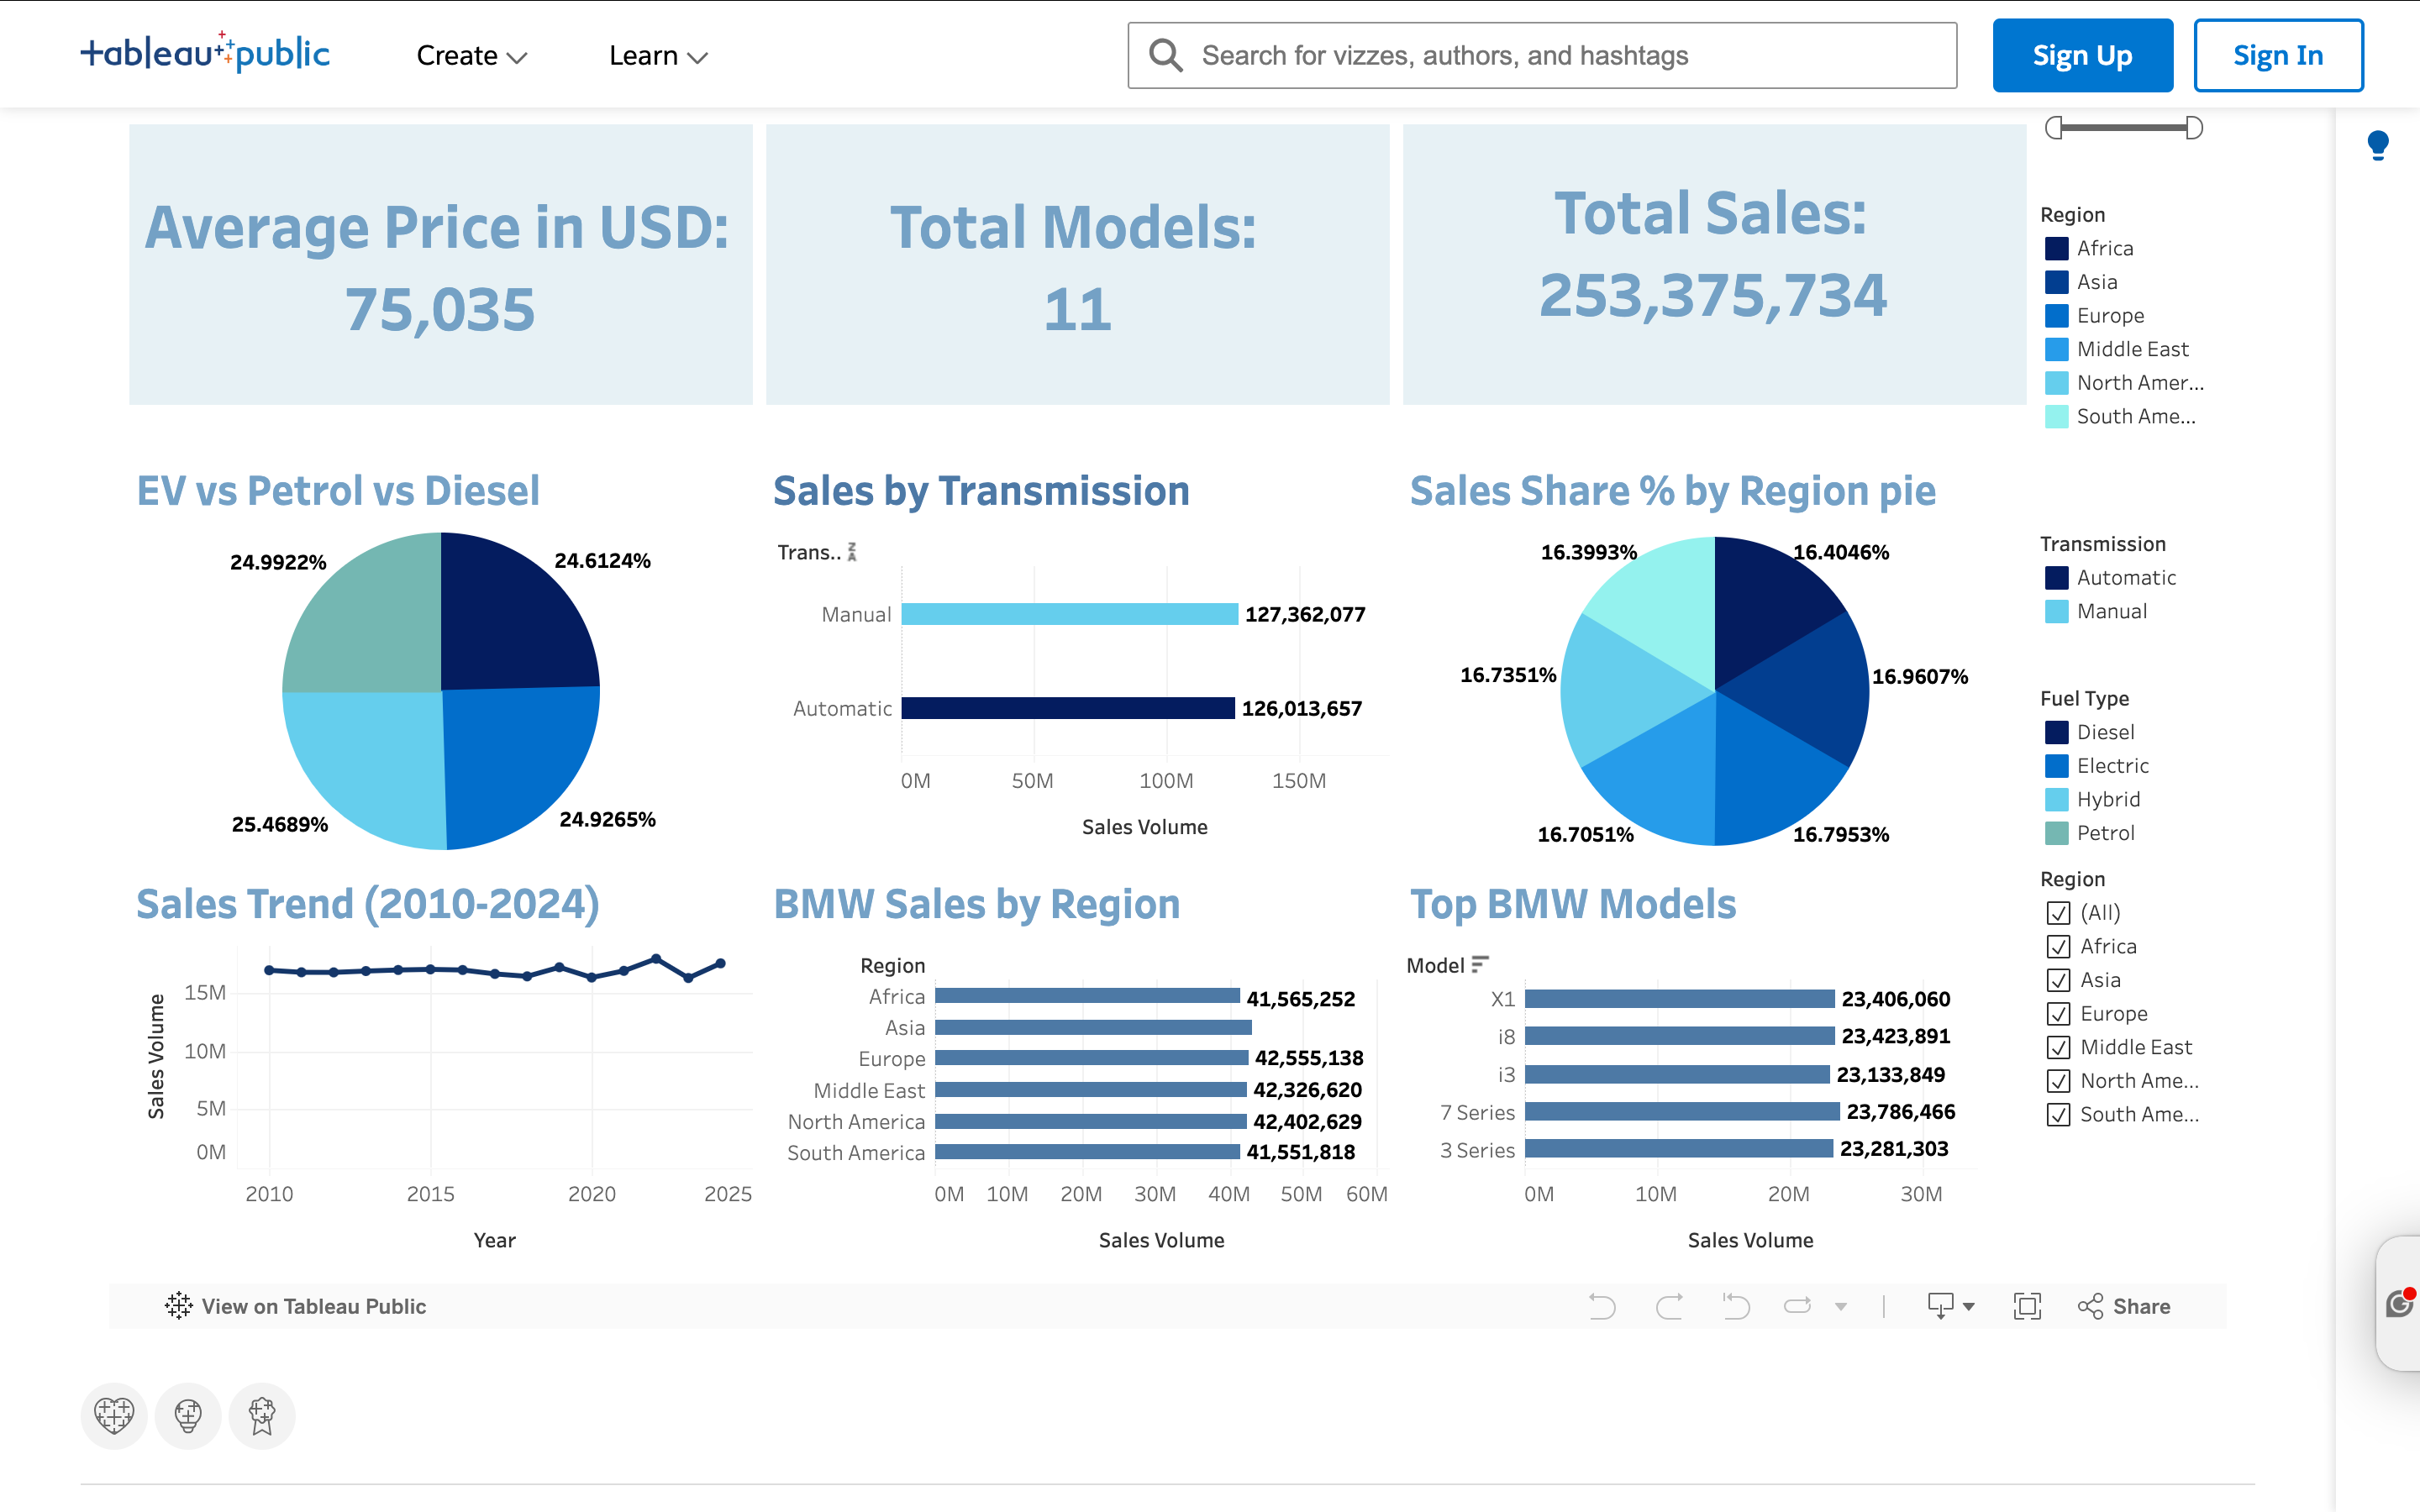

This screenshot's page, from the dashboard's own definition file:
{"tool":"tableau","page":{"name":"Dashboard 1","canvas":[1260,750],"ordinal":0},"visuals":[{"type":"text","box":[8,8,1136.9,33]},{"type":"filter","title":"Sales Trends","param":"[federated.1h0nywl04lkd10103mdz11jnuukj].[none:year:qk]","box":[1144.9,8,107.1,93]},{"type":"worksheet","title":"KPI-Average Cost","mark":"Automatic","box":[8,41,379,189.5]},{"type":"worksheet","title":"KPI-Models","mark":"Automatic","box":[387,41,379,189.5]},{"type":"worksheet","title":"KPI – Total Sales","mark":"Automatic","box":[765.9,41,379,189.5]},{"type":"legend","title":"Pie Chart","param":"[federated.1h0nywl04lkd10103mdz11jnuukj].[none:region:nk]","box":[1144.9,101,107.1,189]},{"type":"blank","box":[8,230.5,1136.9,19.9]},{"type":"worksheet","title":"Fuel Type","mark":"Pie","box":[8,250.4,379,245.8]},{"type":"worksheet","title":"Sales by Transmission","mark":"Automatic","rows":["transmission"],"cols":["sales_volume"],"box":[387,250.4,379,245.8]},{"type":"worksheet","title":"Pie Chart","mark":"Pie","box":[766,250.4,379,245.8]},{"type":"legend","title":"Sales by Transmission","param":"[federated.1h0nywl04lkd10103mdz11jnuukj].[none:transmission:nk]","box":[1144.9,297.3,107.1,86]},{"type":"legend","title":"Fuel Type","param":"[federated.1h0nywl04lkd10103mdz11jnuukj].[none:fuel_type:nk]","box":[1144.9,389,107.1,106]},{"type":"filter","title":"BMW Sales by Region","param":"[federated.1h0nywl04lkd10103mdz11jnuukj].[none:region:nk]","box":[1144.9,496,107.1,246]},{"type":"worksheet","title":"Sales Trends","mark":"Automatic","rows":["sales_volume"],"cols":["year"],"box":[8,496.2,378.6,245.8]},{"type":"worksheet","title":"BMW Sales by Region","mark":"Bar","rows":["region"],"cols":["sales_volume"],"box":[386.6,496.2,379.1,245.8]},{"type":"worksheet","title":"Top BMW Models","mark":"Automatic","rows":["model"],"cols":["sales_volume"],"box":[765.7,496.2,350.3,245.8]},{"type":"blank","box":[1116.1,496.2,28.9,245.8]}]}

Visuals, with their boxes on the page's 1260x750 design canvas (x1, y1, x2, y2). These are canvas units, not pixel positions in the 2420x1512 screenshot, which may show the page scaled, cropped or inside an application window:
text: 8,8,1145,41
"Sales Trends" filter: 1145,8,1252,101
"KPI-Average Cost" worksheet: 8,41,387,230
"KPI-Models" worksheet: 387,41,766,230
"KPI – Total Sales" worksheet: 766,41,1145,230
"Pie Chart" legend: 1145,101,1252,290
blank: 8,230,1145,250
"Fuel Type" worksheet (Pie marks): 8,250,387,496
"Sales by Transmission" worksheet: 387,250,766,496
"Pie Chart" worksheet (Pie marks): 766,250,1145,496
"Sales by Transmission" legend: 1145,297,1252,383
"Fuel Type" legend: 1145,389,1252,495
"BMW Sales by Region" filter: 1145,496,1252,742
"Sales Trends" worksheet: 8,496,387,742
"BMW Sales by Region" worksheet (Bar marks): 387,496,766,742
"Top BMW Models" worksheet: 766,496,1116,742
blank: 1116,496,1145,742
